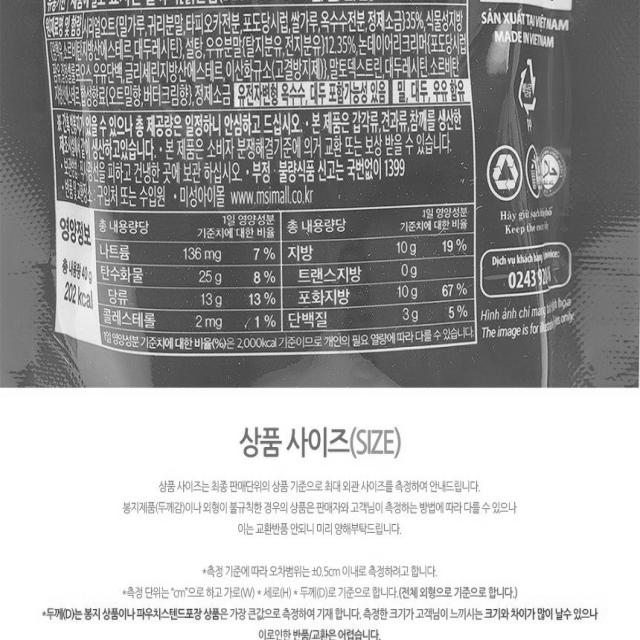Nutrition Label: (49, 193, 485, 362)
